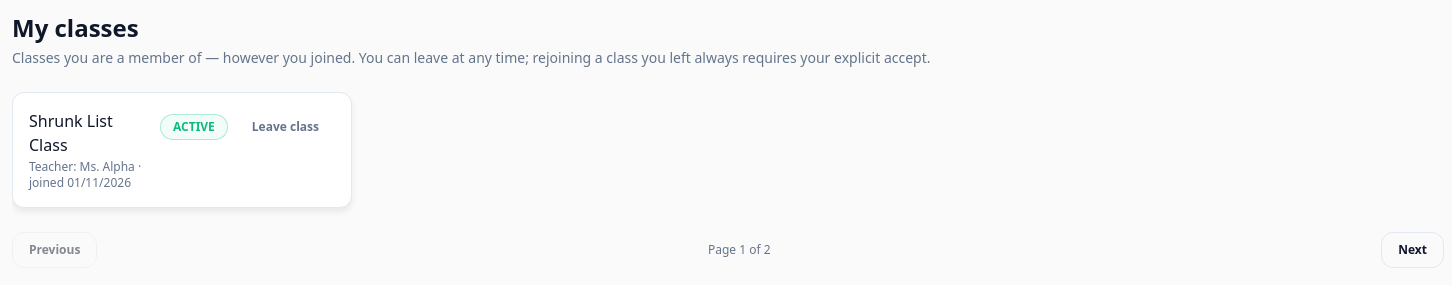
Scenario: MyClassesPage (CLASS-M1) › clamps back to the last valid page when totalPages shrinks
Expected: the link "Shrunk List Class" is shown, [29,110,113,156]
Step 1. Click the button "Next" → coordinates (1413, 250), box [1381,232,1444,268]
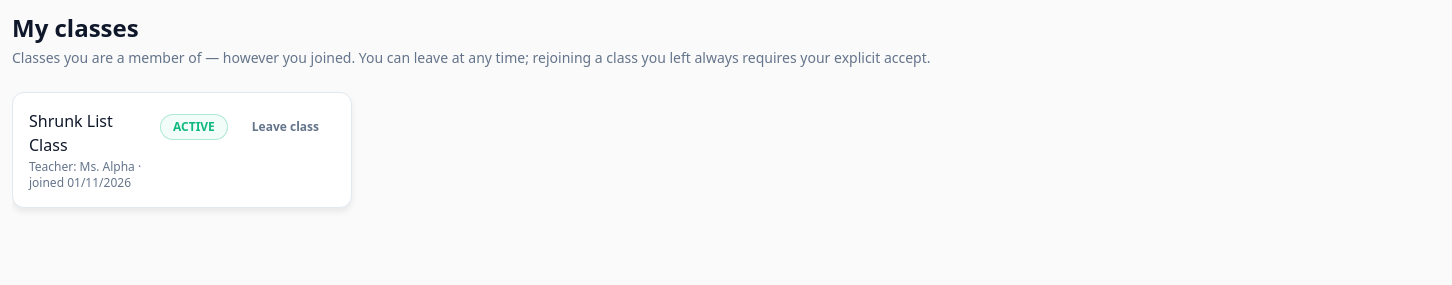
Expected: the link "Shrunk List Class" is shown, [29,110,113,156]
Expected: the button "Next" is gone
Expected: the button "Previous" is gone
